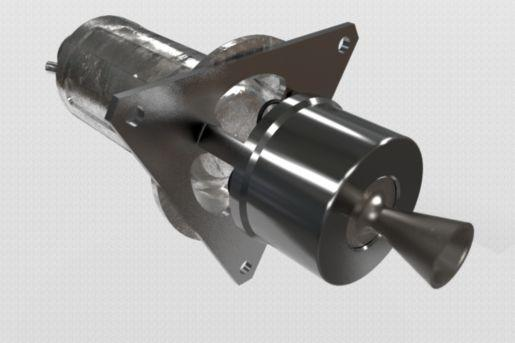thruster: (375, 204, 476, 293)
